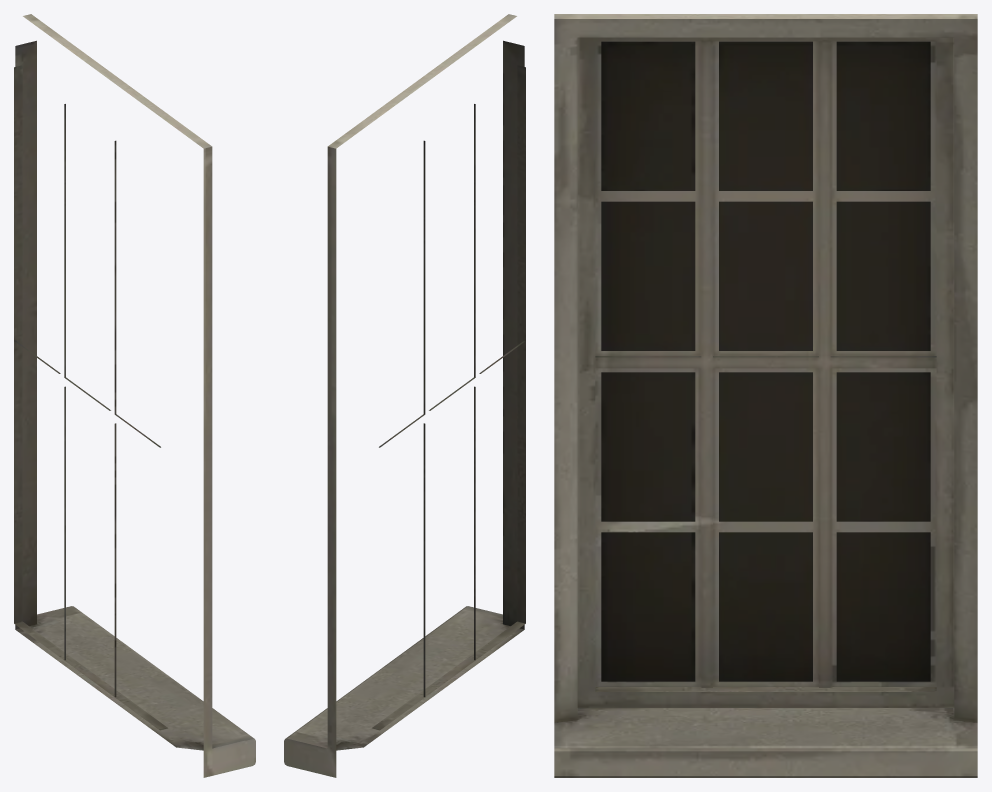
3 renders of one model, left to right at view 1: azimuth 30°, elevation 25°; view 2: azimuth 150°, elevation 25°; view 3: azimuth 270°, elevation 25°, orthographic. The views are drawn at different scales.
Visible parts, largest first — view 1: body0_model0_lod0_mesh0; view 2: body0_model0_lod0_mesh0; view 3: body0_model0_lod0_mesh0.
Part boxes in pixels (<box>): body0_model0_lod0_mesh0: <box>14,14,255,777</box>; body0_model0_lod0_mesh0: <box>284,14,525,777</box>; body0_model0_lod0_mesh0: <box>554,14,977,777</box>.
Size of the model in its own units: 13.49 by 103 by 54.01.
1 material, 1 textured.
